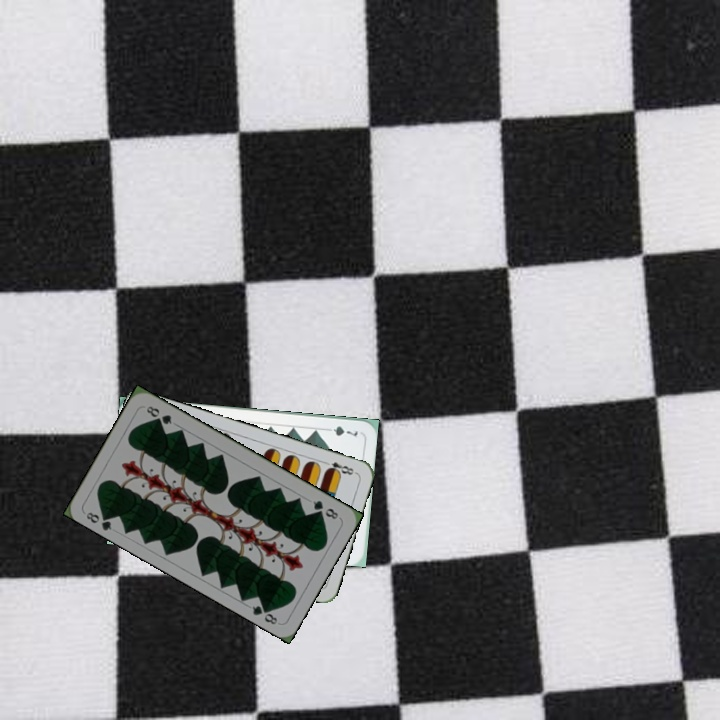E8: (319, 457, 358, 478)
G7: (321, 422, 360, 439)
G8: (309, 496, 341, 522), (82, 508, 115, 533)
